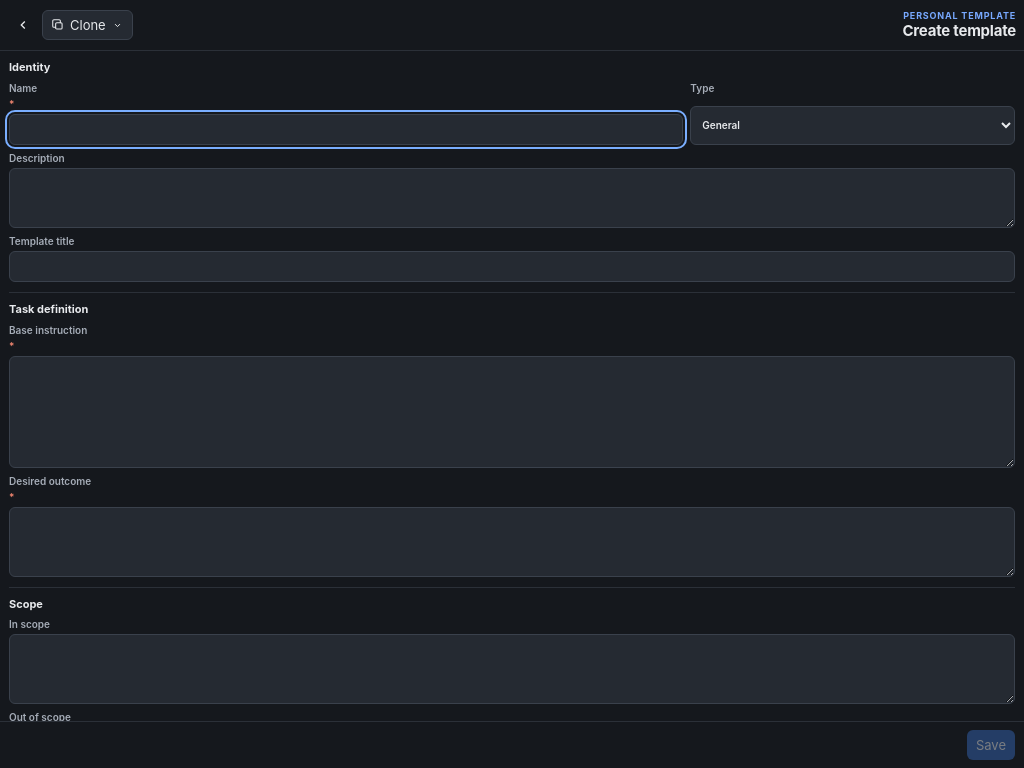
Test case: Library workspace › confirms before cloned content replaces unsaved editor changes
Type "Unsaved template" into the field labelled "Name *".
click(346, 129); type("Unsaved template")  # box [9, 114, 683, 145]
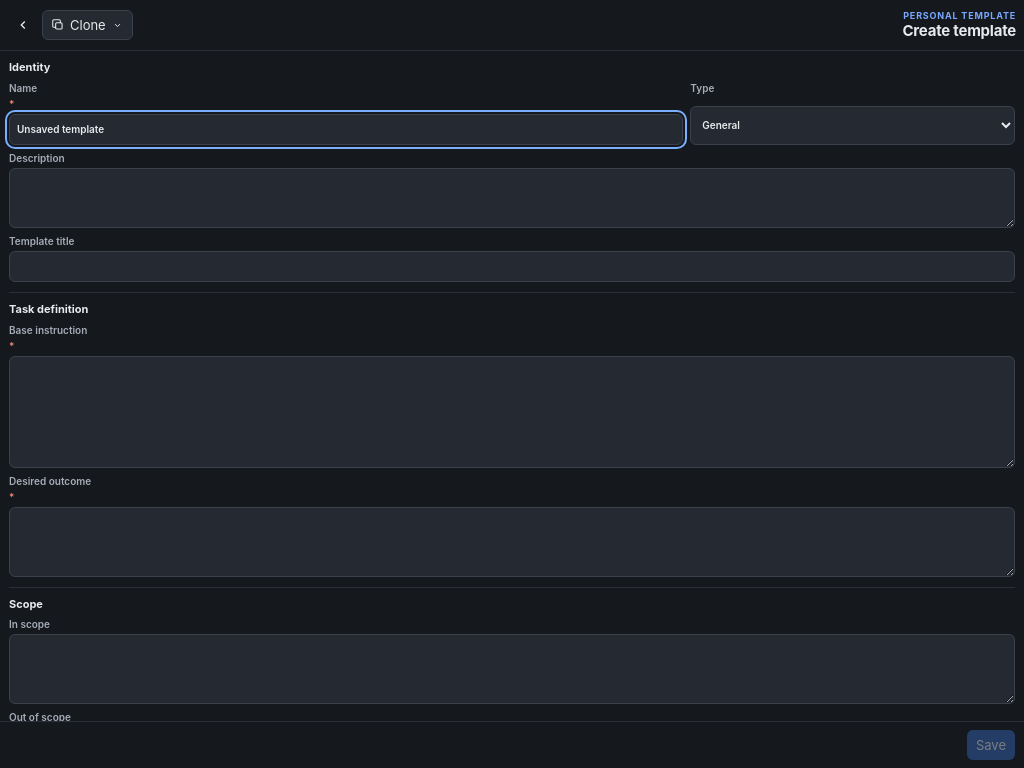
Click the button "Clone".
click(87, 25)  # box [42, 10, 133, 40]
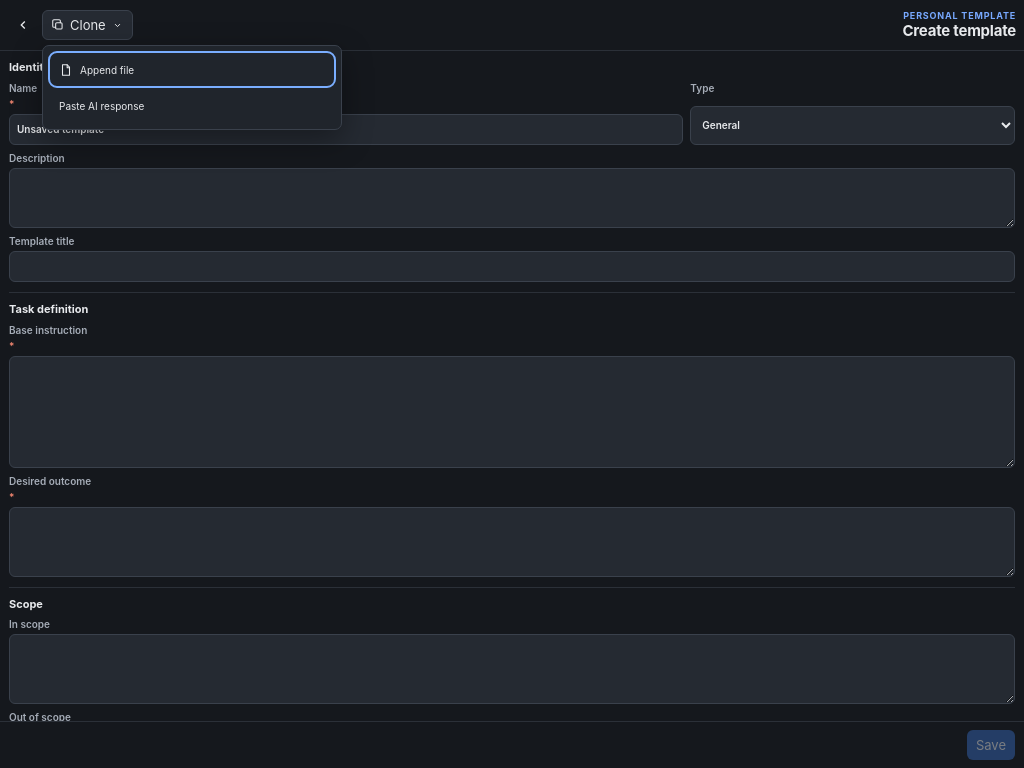
Click the menu item "Paste AI response".
click(102, 106)  # box [52, 91, 332, 120]
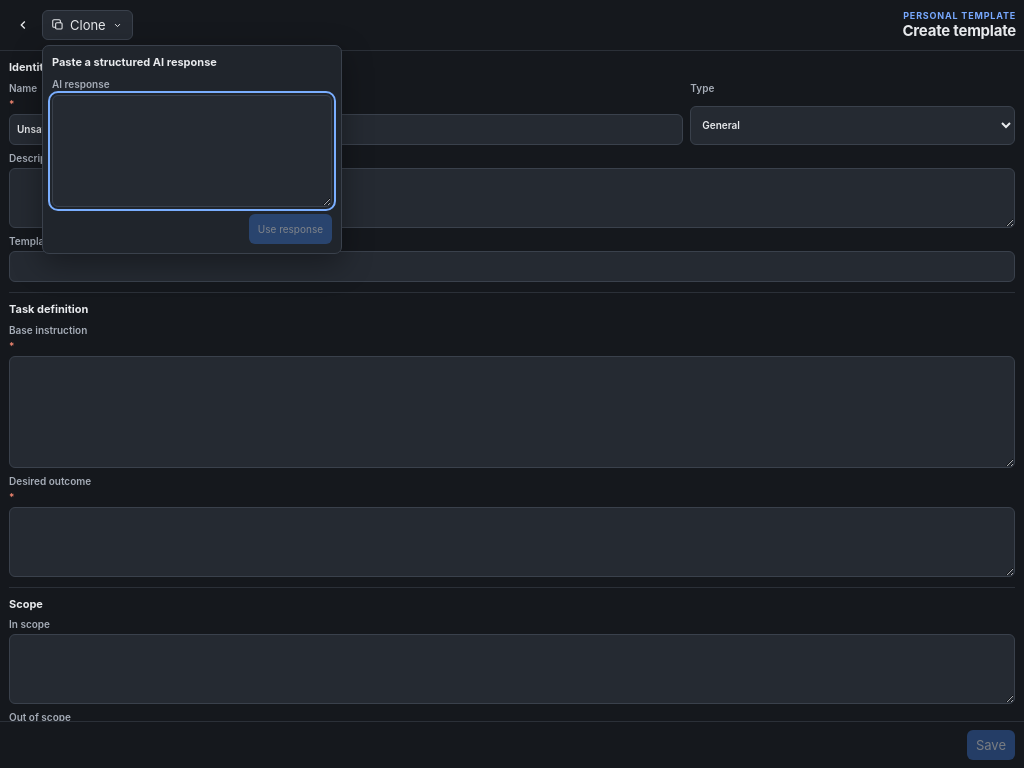
Type "structured response" into the text box labelled "AI response".
click(192, 151); type("structured response")  # box [52, 95, 332, 207]
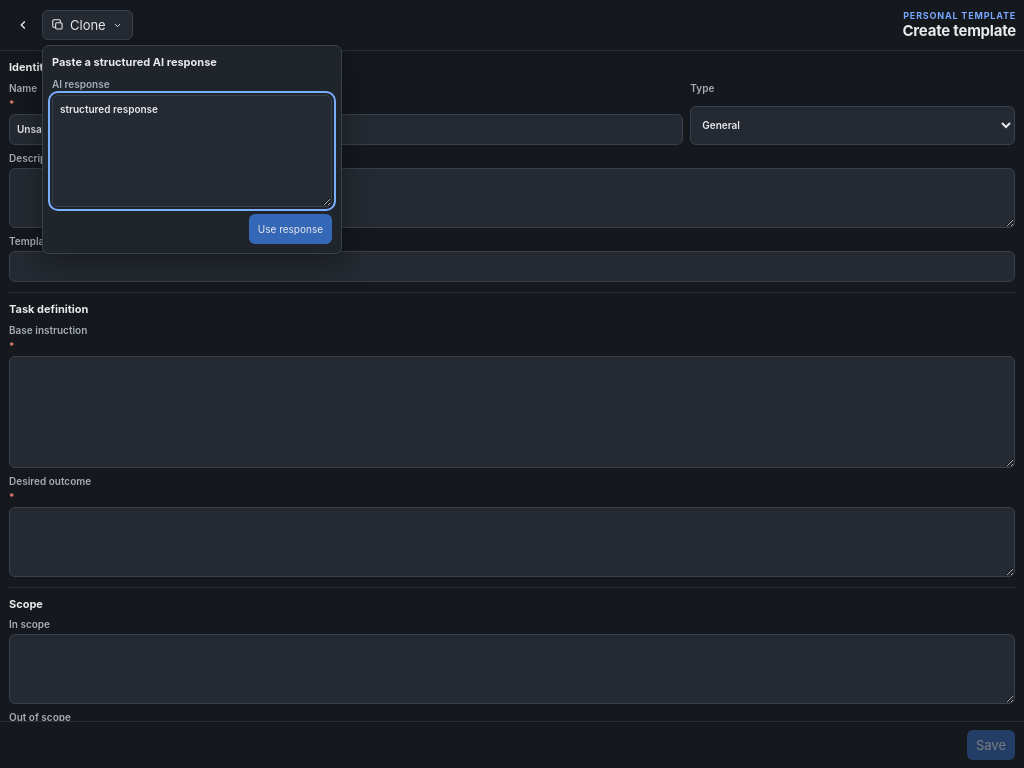
Click the button "Use response".
click(290, 229)  # box [249, 214, 332, 244]
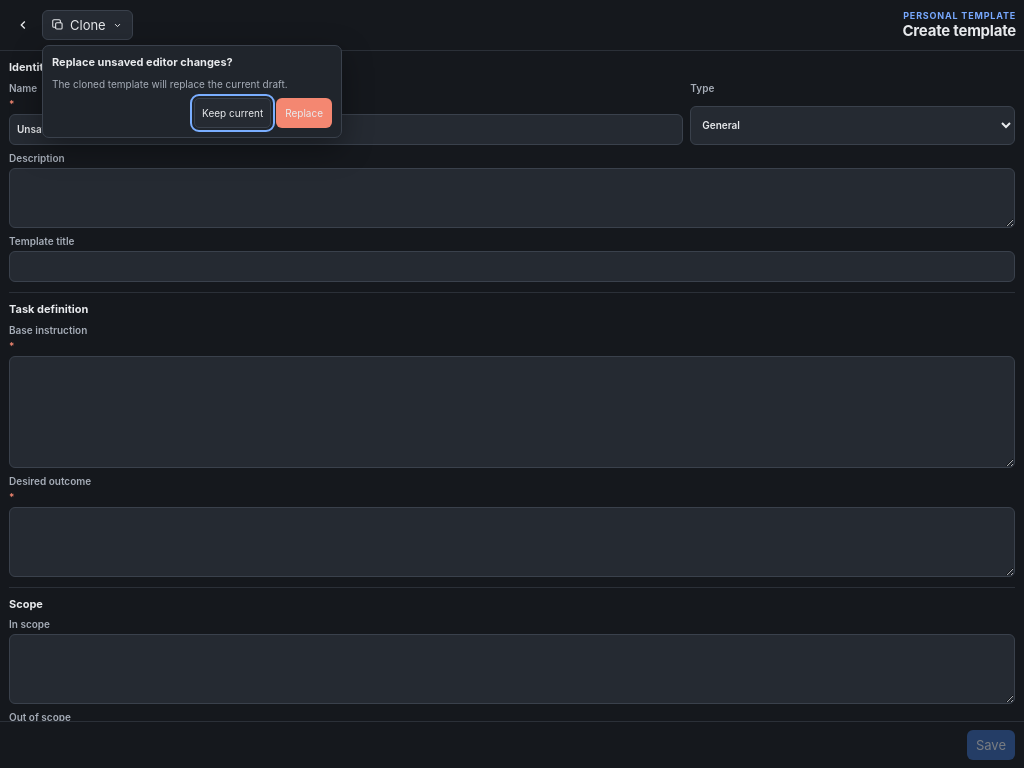
Click the button "Keep current".
click(233, 113)  # box [194, 98, 271, 128]
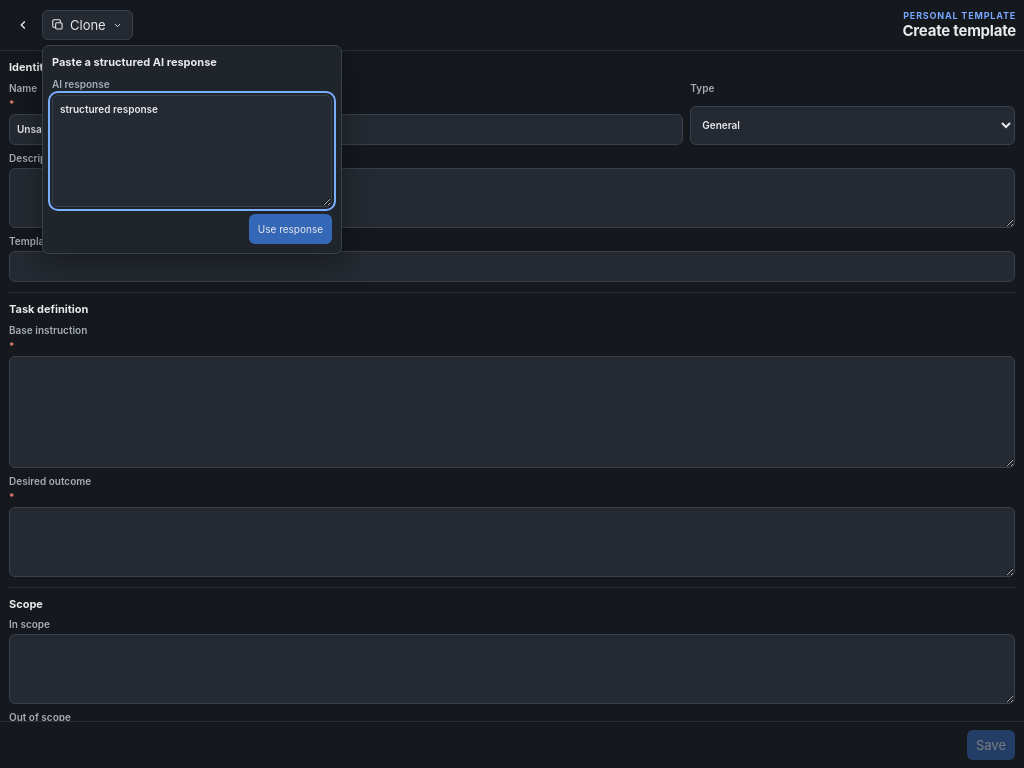
Result: the text box labelled "AI response" holds "structured response" at [52, 95, 332, 207]
